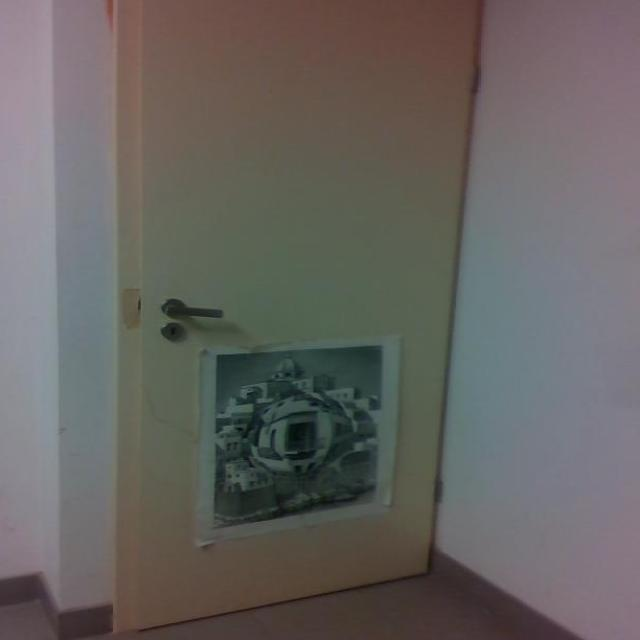door: (111, 0, 483, 633)
